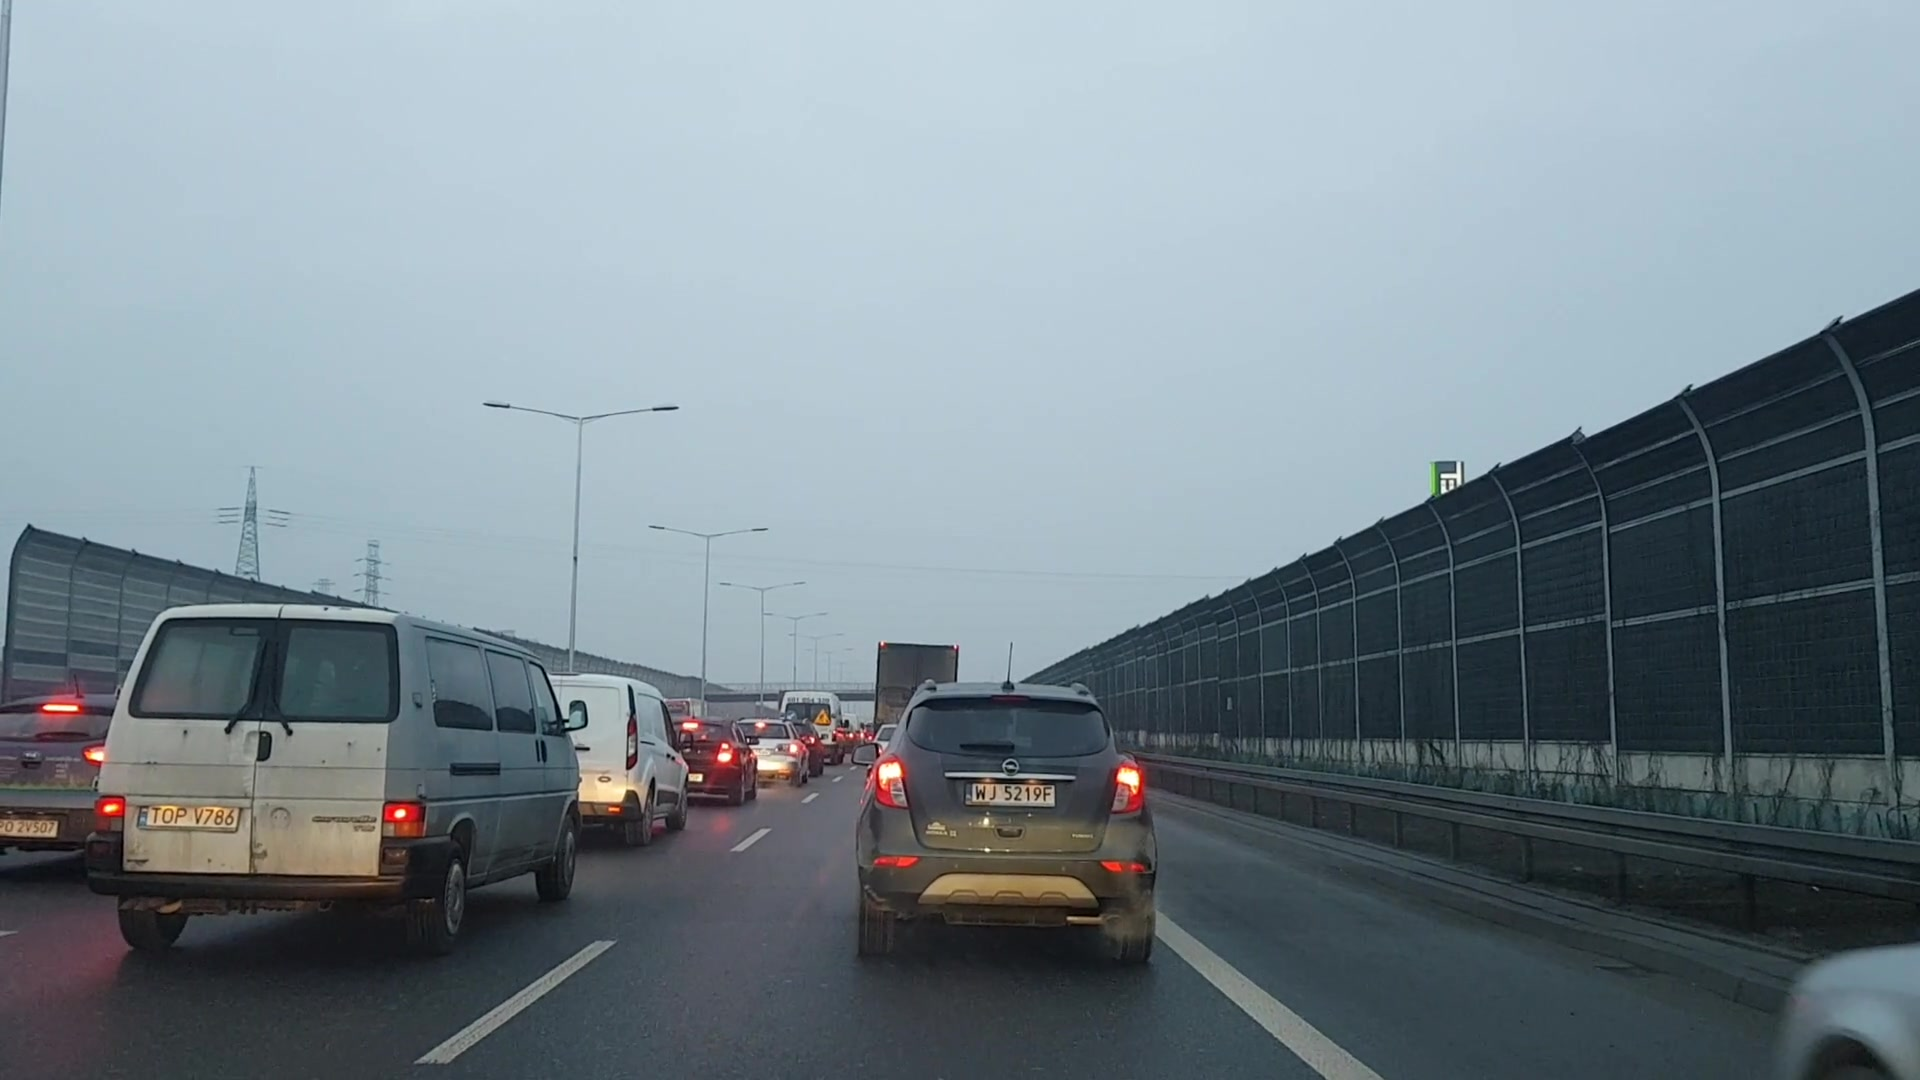car: (78, 599, 587, 945), (843, 680, 1164, 964), (574, 669, 688, 856), (684, 715, 760, 804), (760, 720, 800, 779)
